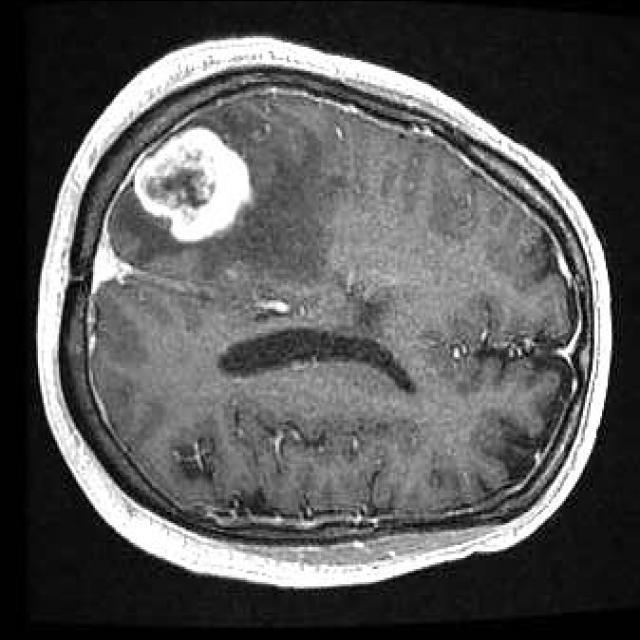tumor: (135, 122, 256, 245)
